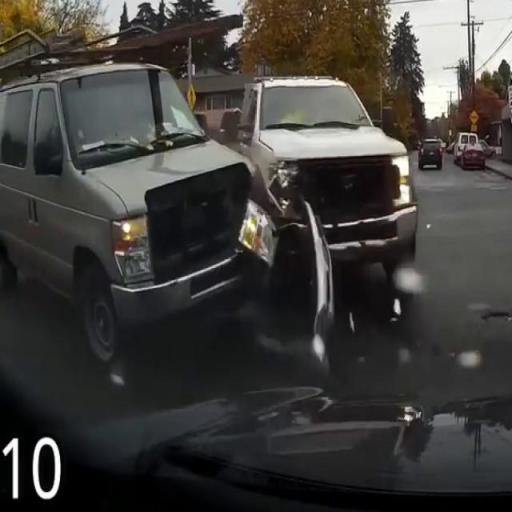小汽车: (413, 134, 447, 174), (456, 141, 490, 172)
小汽车撞小汽车: (0, 66, 416, 362)
